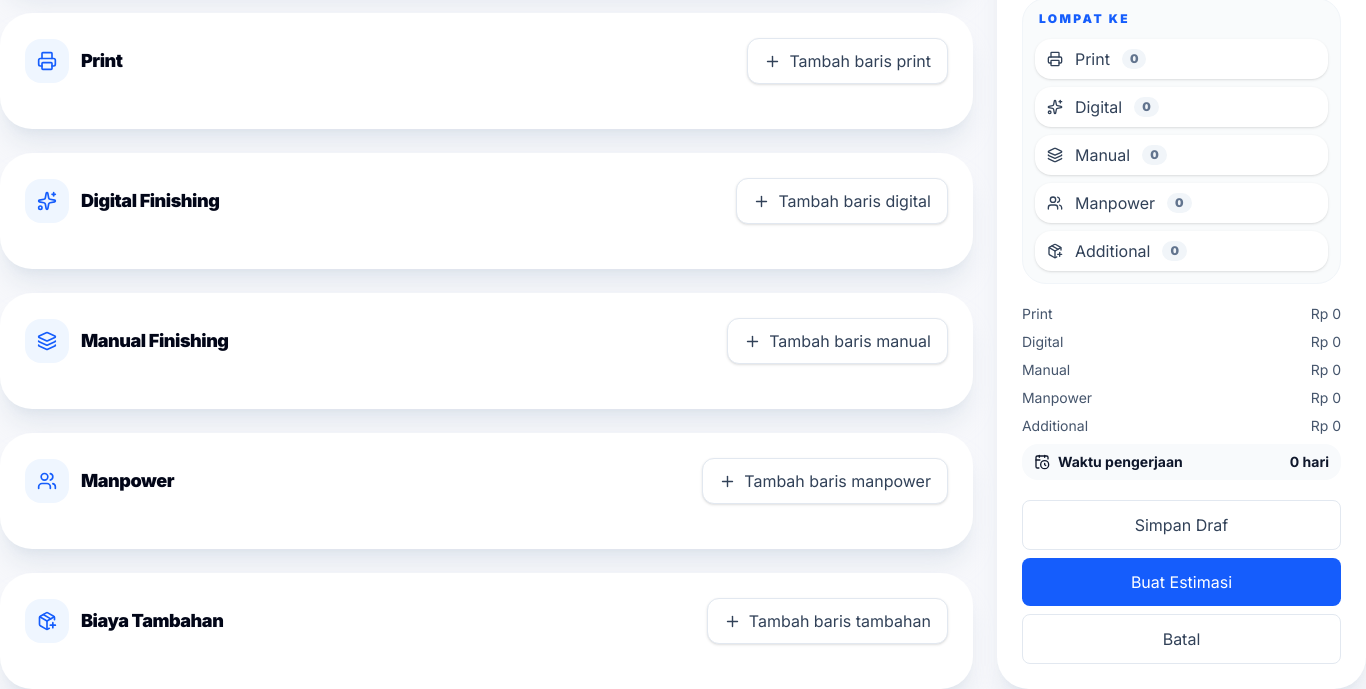
Scenario: EstimationView › blocks create when required fields are missing
The width and height of the screenshot is (1366, 689).
(page scrolled)
Click the button "Buat Estimasi". click: [1181, 582]
box: [1022,558,1341,606]
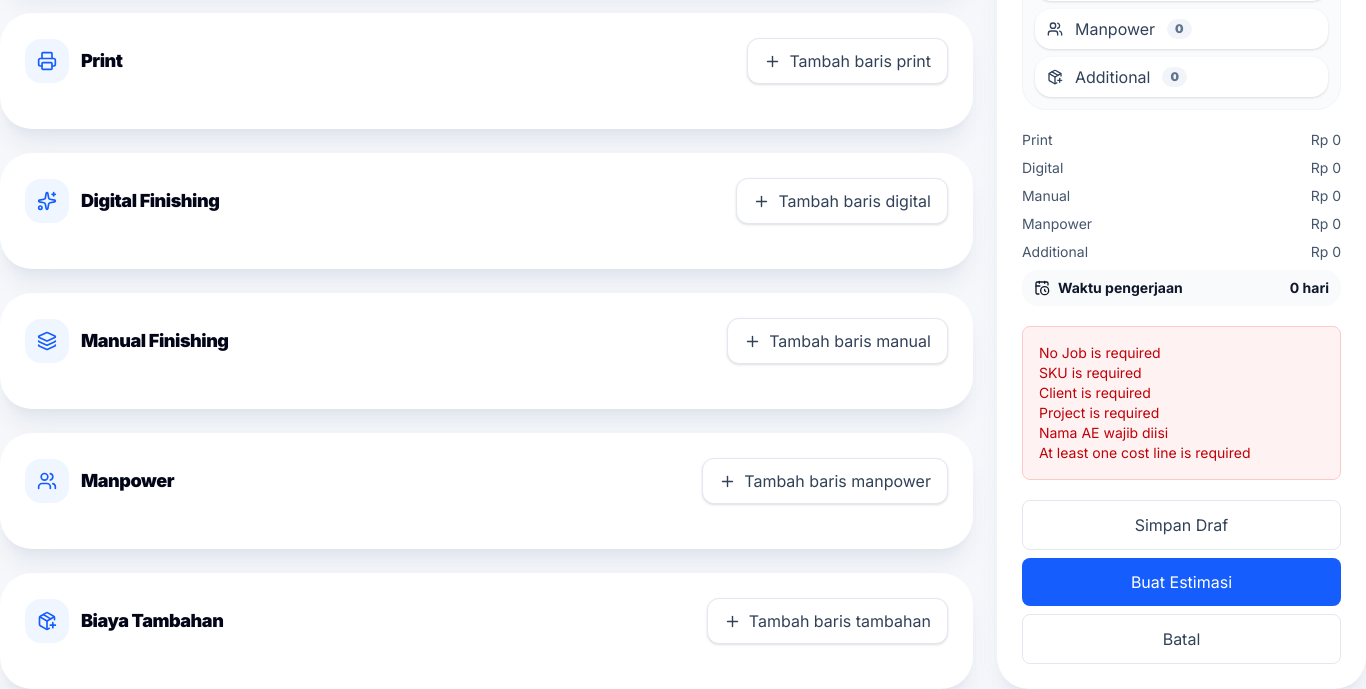
Expected: the list item "No Job is required" is shown, [1039,344,1161,361]
